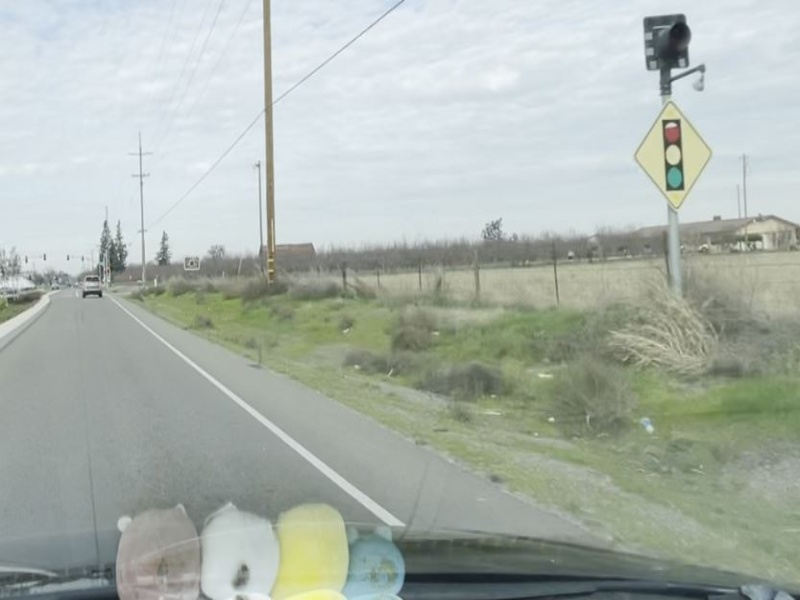street light sign: (631, 100, 713, 213)
